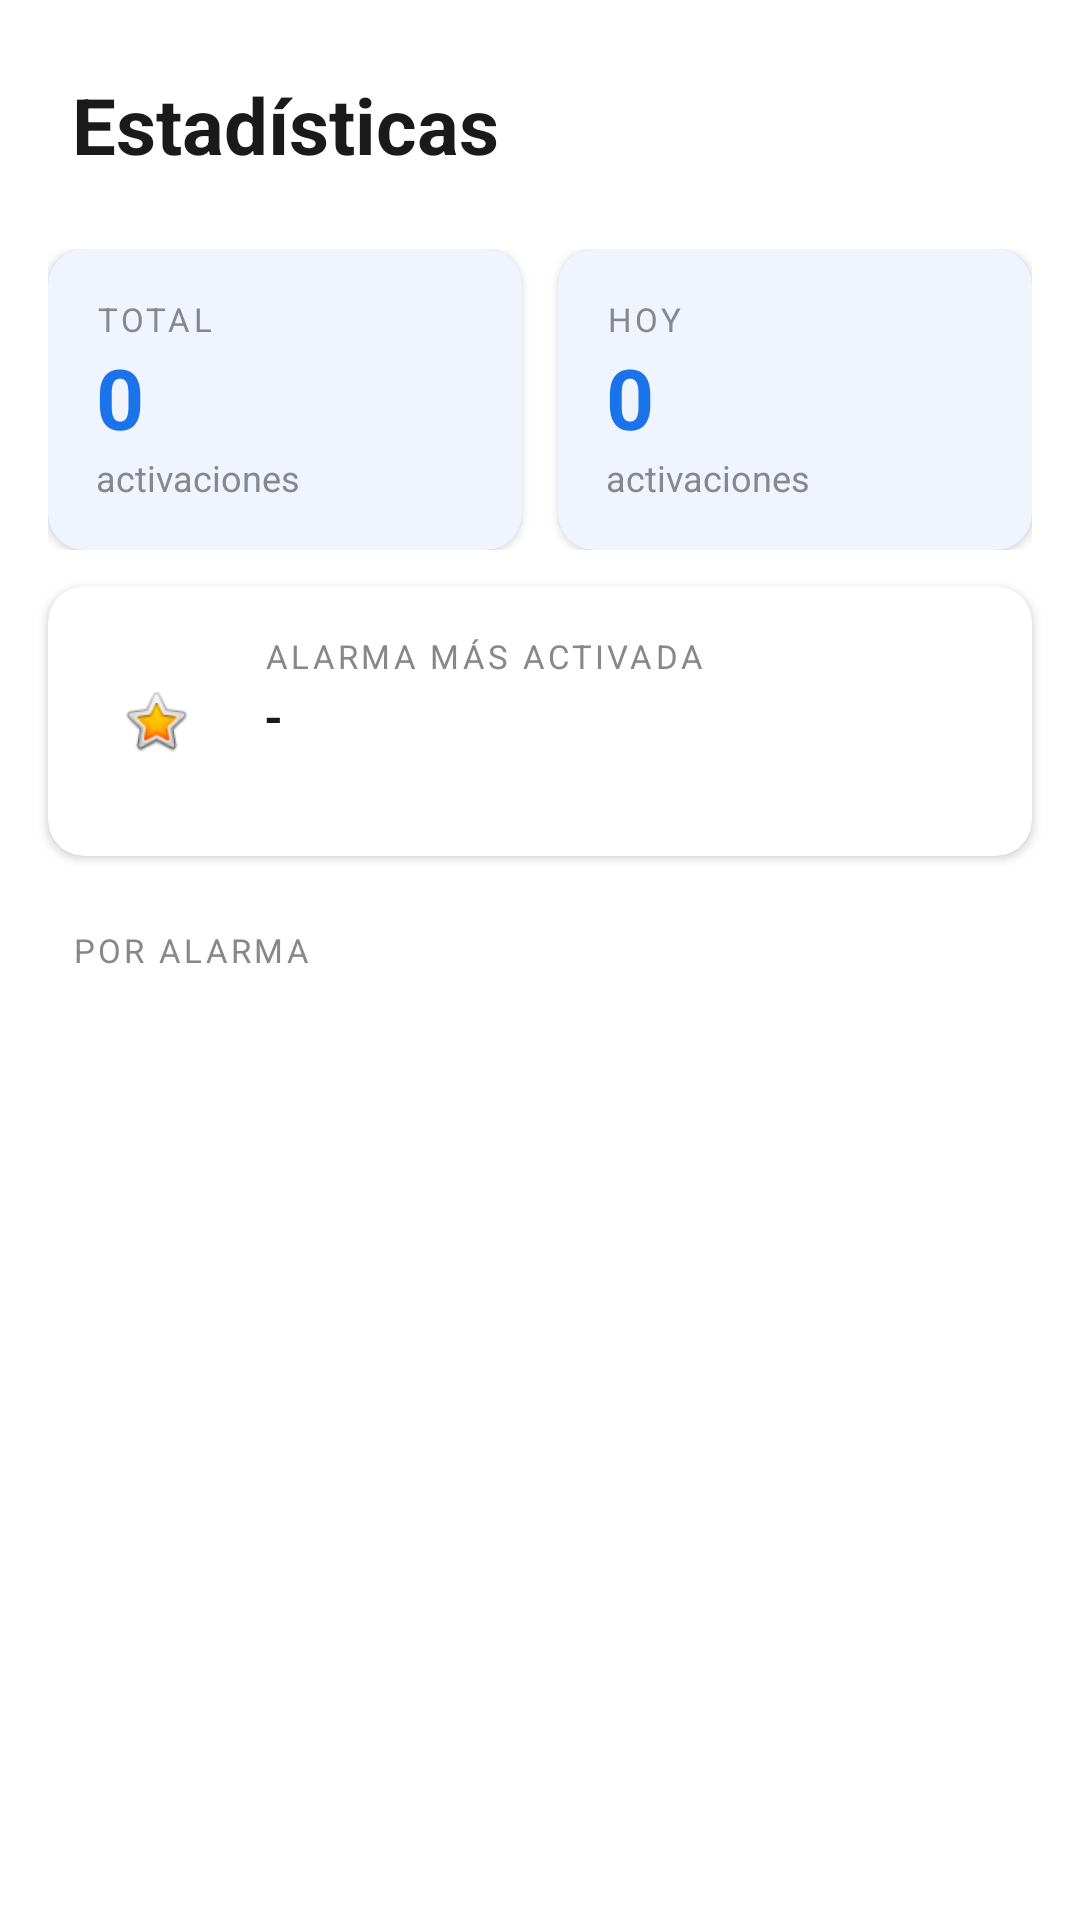

Named icons in this screenshot (1080×1920) and their centers, point (x, y):
star on: point (157, 721)
